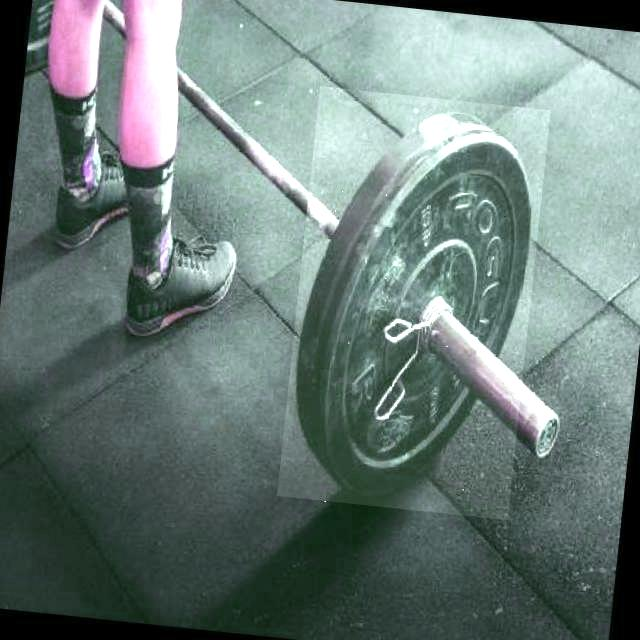barbell: (277, 88, 554, 524)
